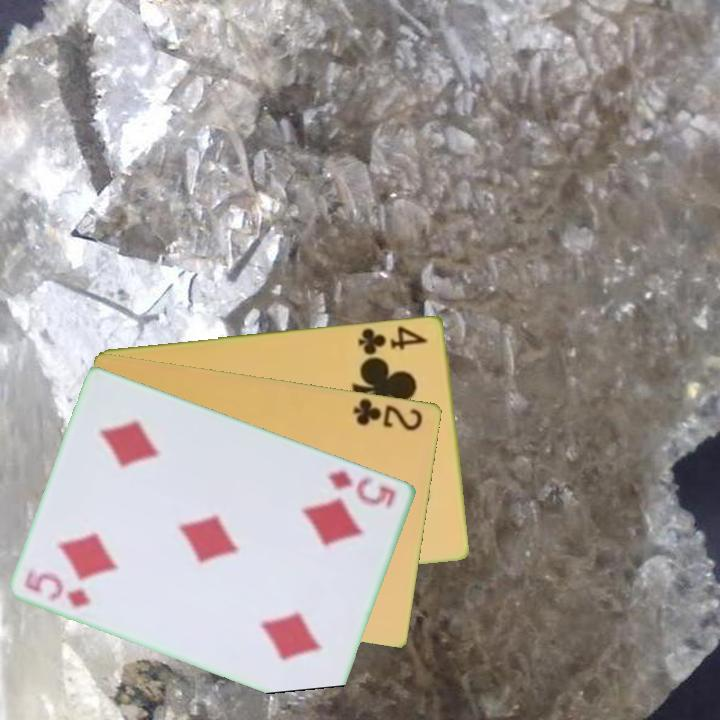2c: (349, 394, 426, 433)
4c: (355, 322, 431, 358)
5d: (325, 467, 399, 512), (21, 565, 95, 610)
